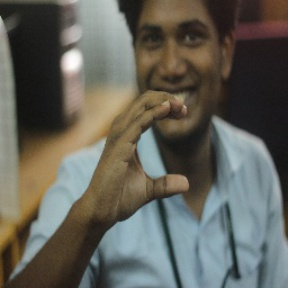C: (94, 80, 206, 207)
